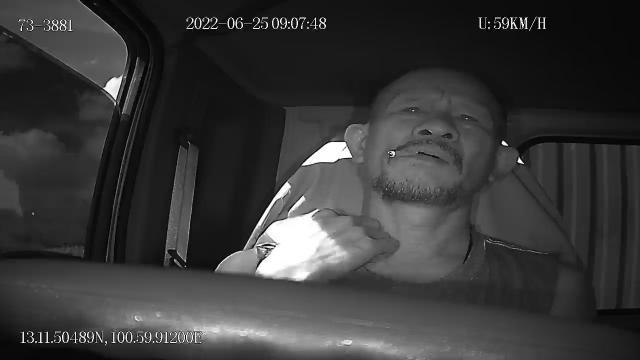SafeDriving: (447, 102, 484, 131), (391, 96, 430, 121)
Smoking: (386, 148, 419, 158)
